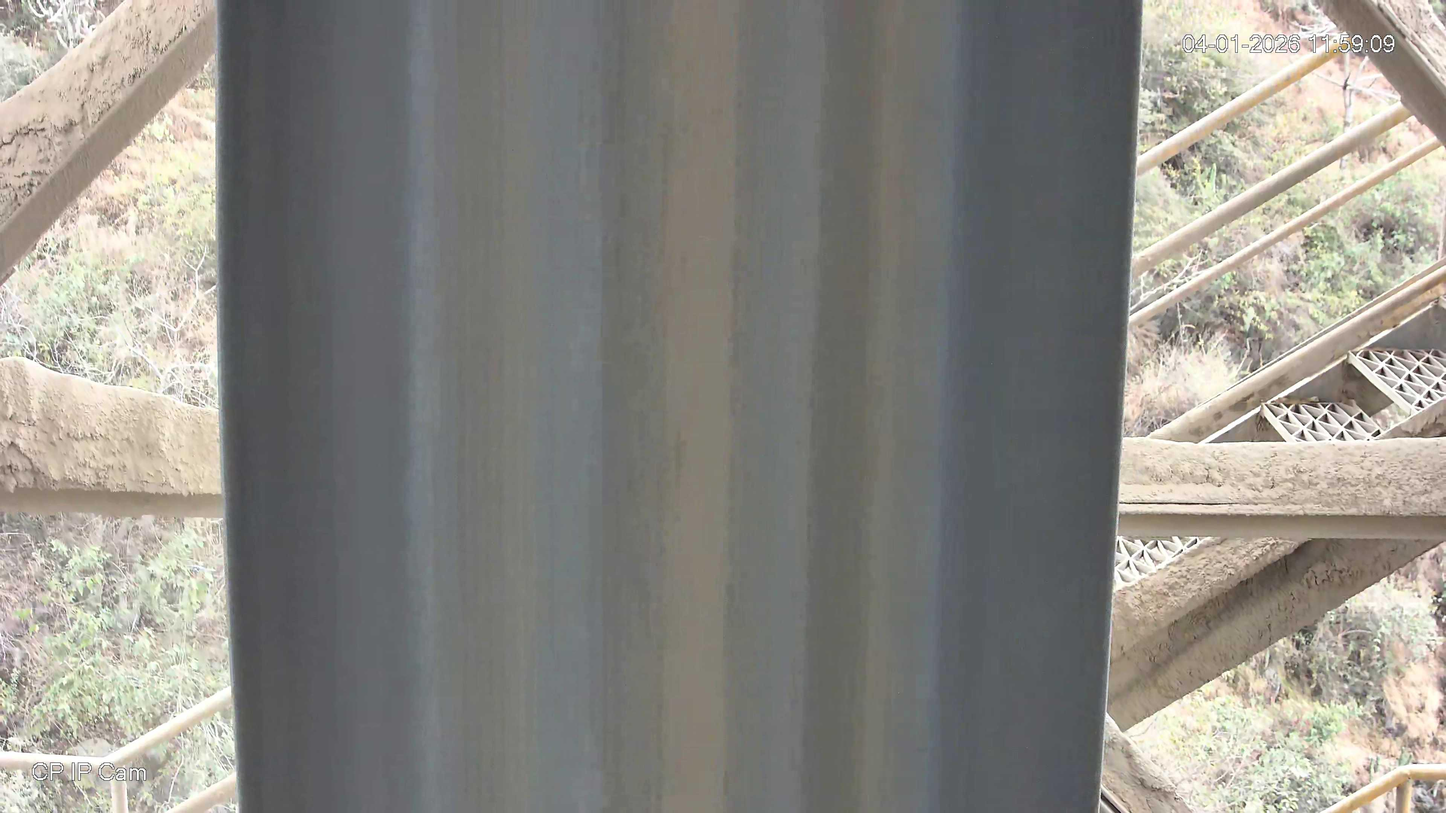belt_roi: (217, 0, 1145, 813)
